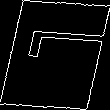L_E: (5, 37, 105, 73)
